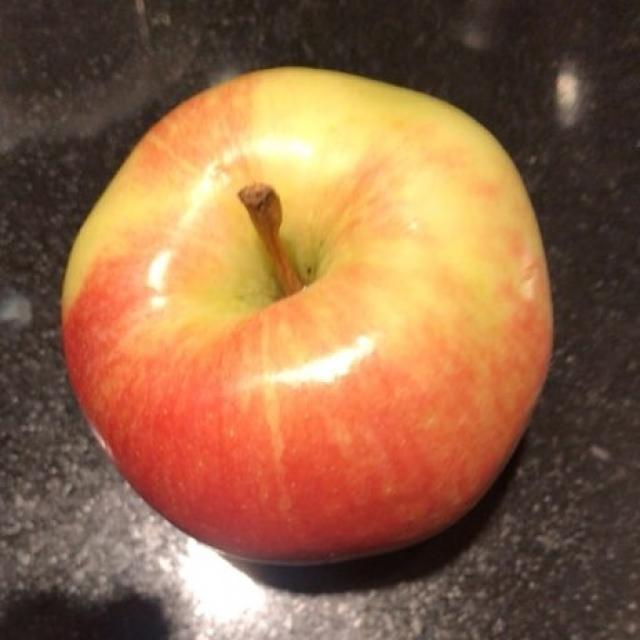apple: (67, 78, 544, 562)
